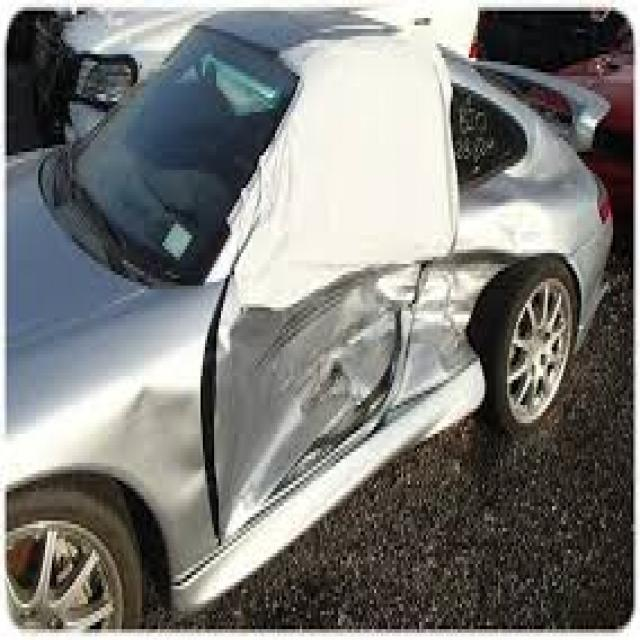moderate: (211, 70, 463, 503)
